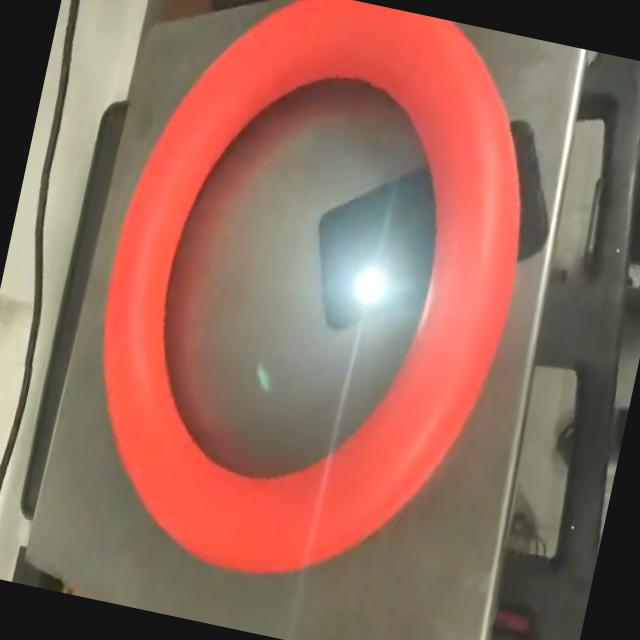note: (52, 0, 570, 617)
